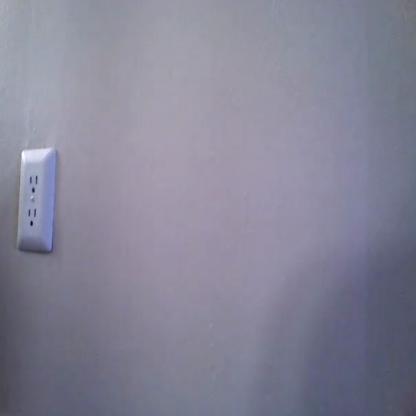OUTLET: (16, 147, 55, 250)
